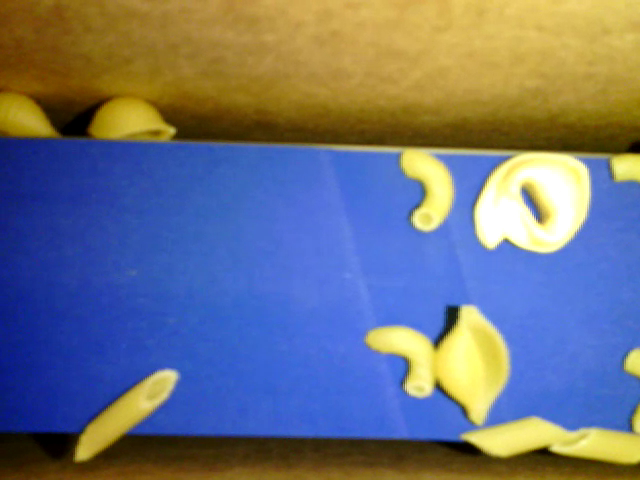elbow: (361, 319, 436, 397), (395, 145, 454, 228), (622, 345, 639, 434), (609, 150, 639, 188)
penne: (73, 366, 179, 464), (457, 413, 574, 459), (547, 423, 639, 467)
shell: (433, 304, 508, 422), (83, 98, 172, 140), (1, 92, 69, 138)
tortellini: (468, 144, 590, 257)
